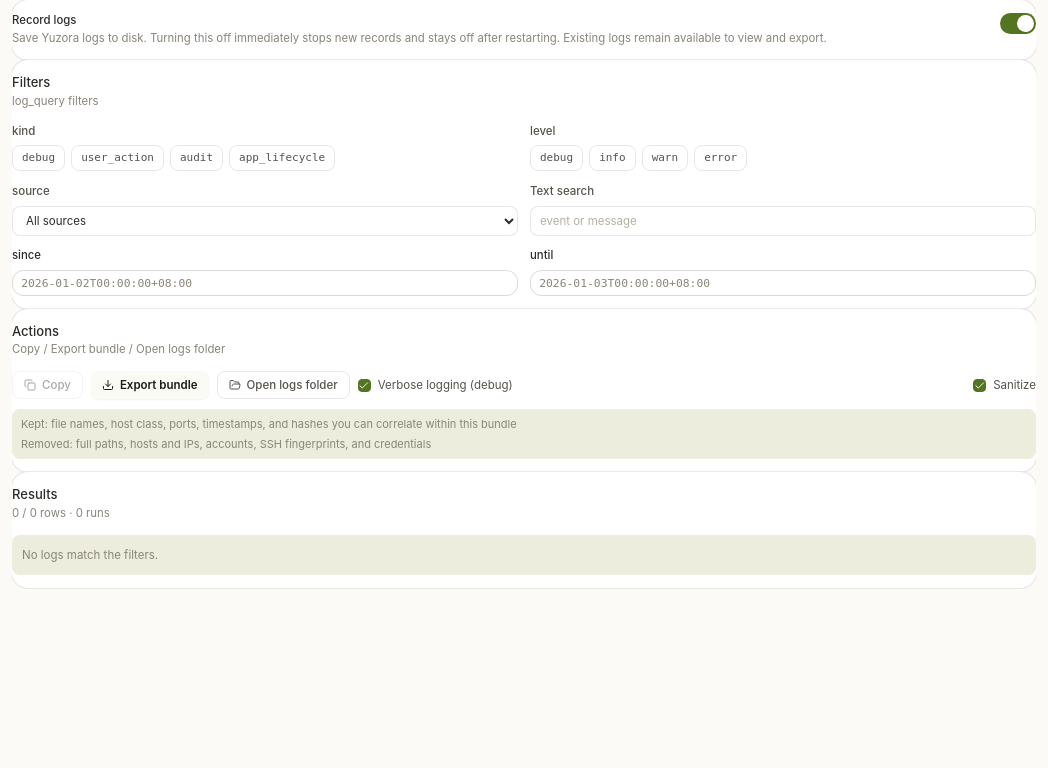
Test: allows startup debug after a failed off save rolls the UI back
The width and height of the screenshot is (1048, 768).
Click the checkbox named "Verbose logging (debug)" next to "Verbose logging (debug)" at (364, 385), box [358, 379, 371, 392]
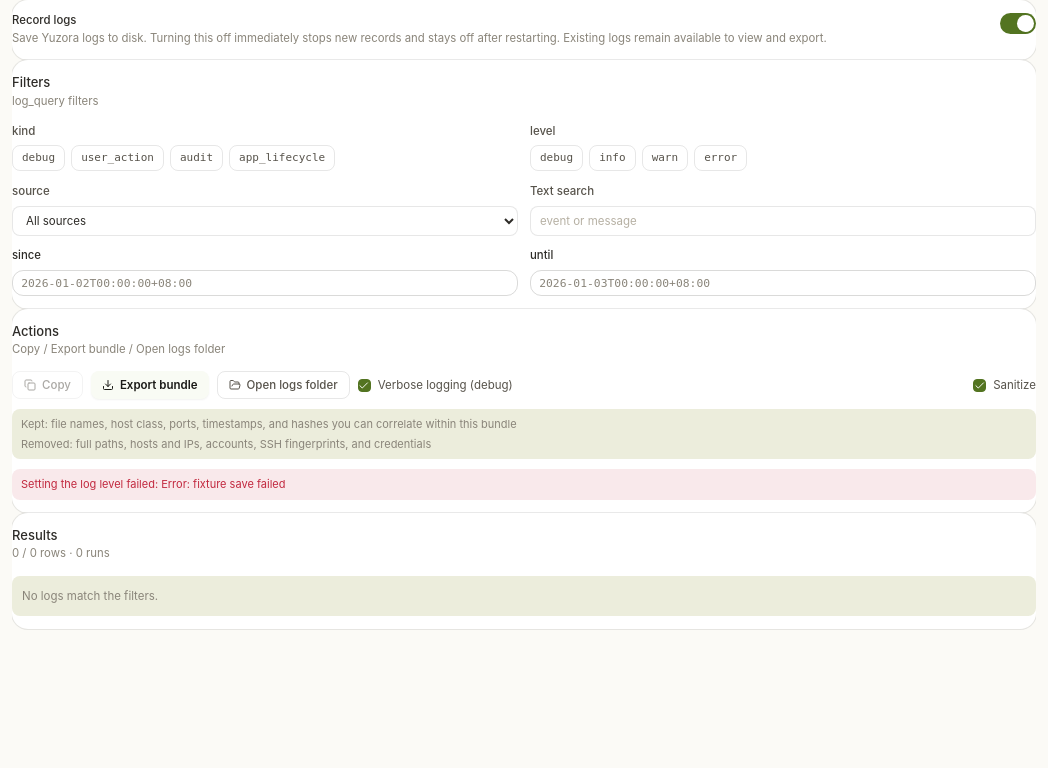
Expected: the text "Setting the log level failed: Error: fixture save failed" is shown, [12, 469, 1036, 500]
